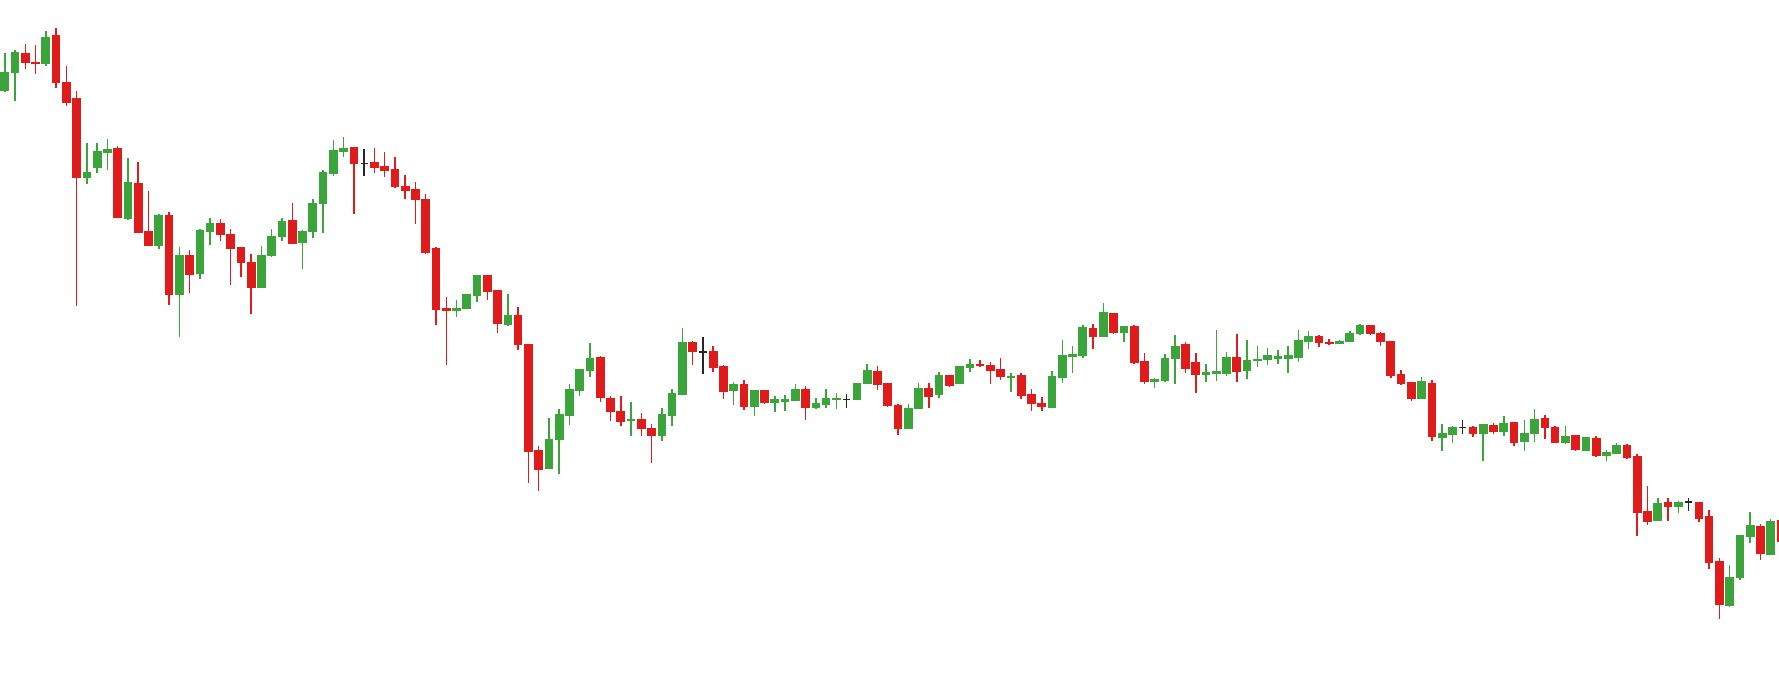buy: (801, 387, 914, 436)
